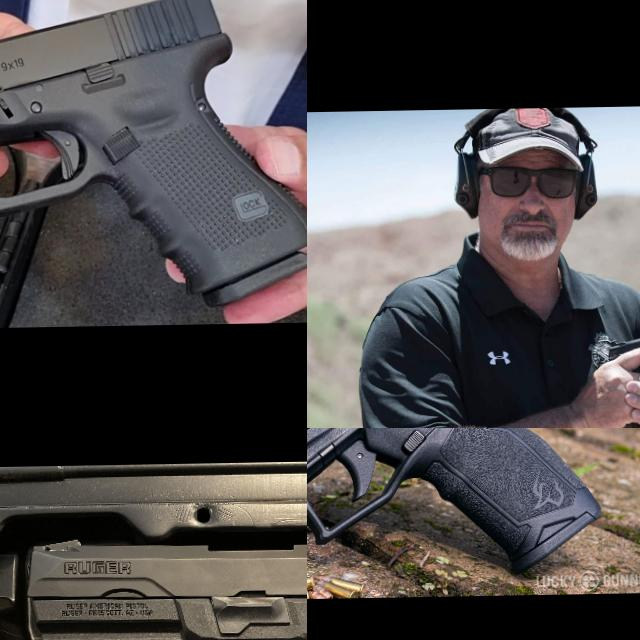handgun: (0, 0, 307, 319), (307, 428, 605, 582), (20, 524, 307, 640), (605, 308, 640, 378)
